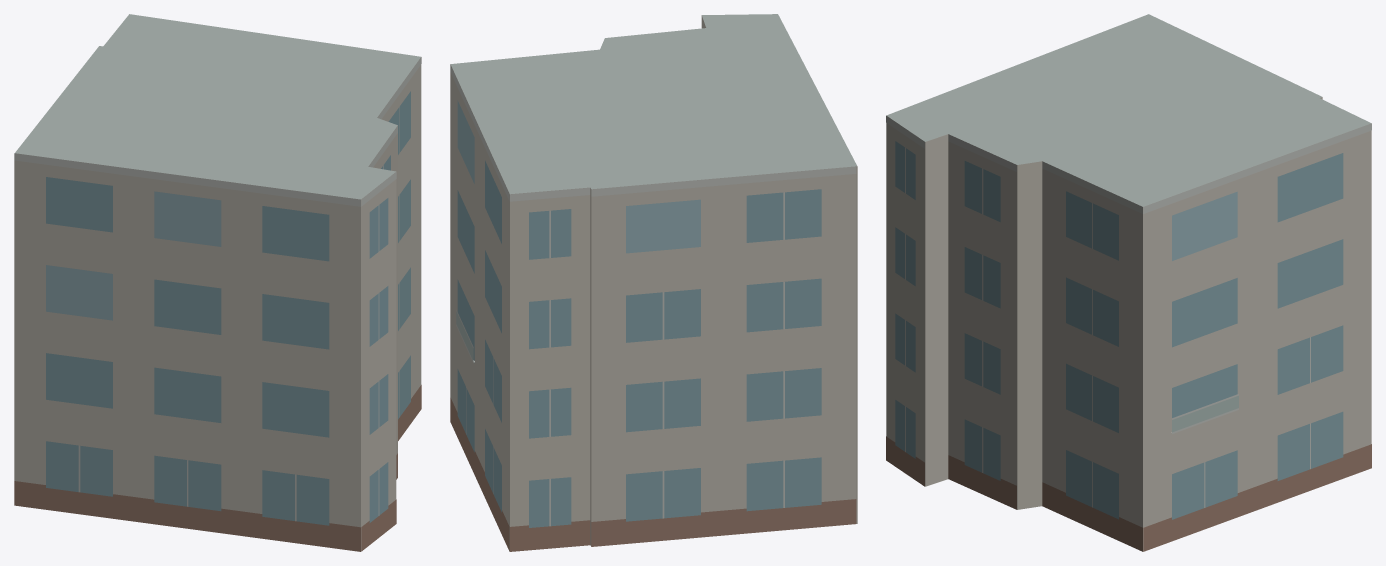
Rendered from survey-upis-32816162.glb.
3 views of the same model, side by side, from view 1: azimuth 30°, elevation 25°; view 2: azimuth 150°, elevation 25°; view 3: azimuth 270°, elevation 25° (orthographic). The views are drawn at different scales.
Parts seen in each view (by area): view 1: survey-upis-32816162.tmp; view 2: survey-upis-32816162.tmp; view 3: survey-upis-32816162.tmp.
Part boxes in pixels (x1,y1,x2,y2): survey-upis-32816162.tmp: (14,14,421,551); survey-upis-32816162.tmp: (450,14,857,551); survey-upis-32816162.tmp: (886,14,1371,551).
Size of the model in its own units: 13.99 by 11.65 by 14.87.
